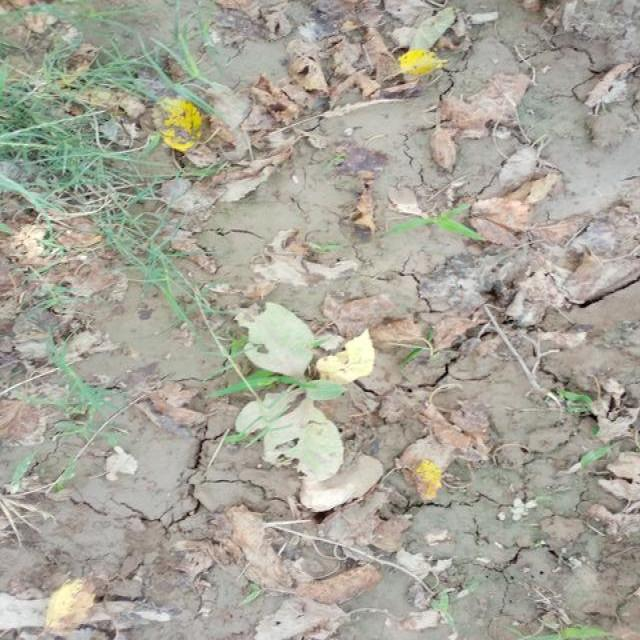crop: (230, 294, 379, 476)
